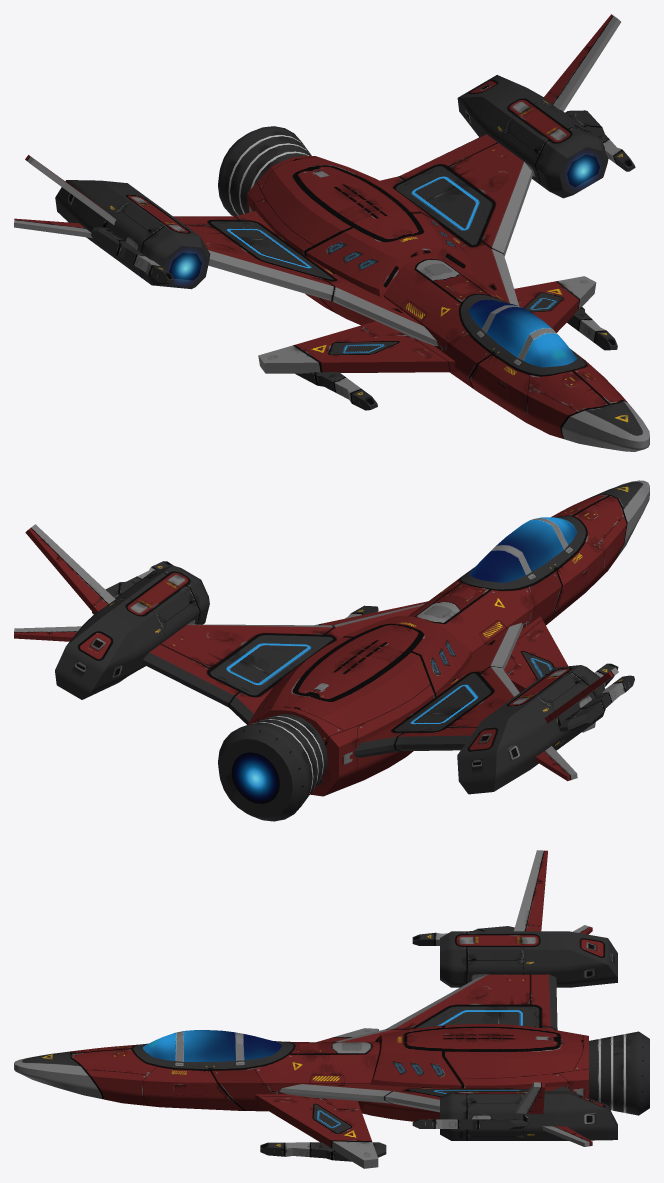
The model's file is spaceship-noAni-posi-draco.glb.
3 views of the same model, one above another, from view 1: azimuth 30°, elevation 25°; view 2: azimuth 150°, elevation 25°; view 3: azimuth 270°, elevation 25° (orthographic). The views are drawn at different scales.
Parts seen in each view (by area): view 1: StarSparrow_Core_New, StarSparrow_Wing.001, StarSparrow_Plasma.003, StarSparrow_Wing.002, StarSparrow_Plasma.002, StarSparrow_Tail.004, StarSparrow_Thruster.006, StarSparrow_Tail.003, StarSparrow_Fin.001, StarSparrow_Weapon.001, StarSparrow_Weapon.008, StarSparrow_Weapon.006 (+3 smaller); view 2: StarSparrow_Core_New, StarSparrow_Wing.001, StarSparrow_Plasma.003, StarSparrow_Plasma.002, StarSparrow_Thruster.006, StarSparrow_Wing.002, StarSparrow_Tail.004, StarSparrow_Fin.001, StarSparrow_Weapon.001, StarSparrow_Fin.002, StarSparrow_Fin.004, StarSparrow_Fin.003 (+1 smaller); view 3: StarSparrow_Core_New, StarSparrow_Plasma.002, StarSparrow_Plasma.003, StarSparrow_Wing.002, StarSparrow_Tail.003, StarSparrow_Thruster.006, StarSparrow_Wing.001, StarSparrow_Fin.003, StarSparrow_Weapon.004, StarSparrow_Weapon.006, StarSparrow_Fin.001, StarSparrow_Weapon.001 (+1 smaller).
Part boxes in pixels (box(x1,y1,x2,y2)): StarSparrow_Core_New: box(247, 155, 649, 451); StarSparrow_Wing.001: box(380, 134, 532, 305); StarSparrow_Plasma.003: box(457, 75, 608, 198); StarSparrow_Wing.002: box(173, 211, 437, 346); StarSparrow_Plasma.002: box(55, 180, 210, 289); StarSparrow_Tail.004: box(258, 321, 457, 373); StarSparrow_Thruster.006: box(218, 126, 311, 216); StarSparrow_Tail.003: box(514, 276, 596, 332); StarSparrow_Fin.001: box(543, 14, 620, 111); StarSparrow_Weapon.001: box(91, 227, 174, 283); StarSparrow_Weapon.008: box(295, 372, 377, 410); StarSparrow_Weapon.006: box(565, 110, 635, 171); StarSparrow_Core_New: box(247, 480, 649, 796); StarSparrow_Wing.001: box(142, 603, 424, 724); StarSparrow_Plasma.003: box(55, 565, 209, 699); StarSparrow_Plasma.002: box(457, 665, 605, 794); StarSparrow_Thruster.006: box(218, 714, 327, 821); StarSparrow_Wing.002: box(354, 623, 523, 757); StarSparrow_Tail.004: box(504, 616, 595, 732); StarSparrow_Fin.001: box(25, 524, 115, 613); StarSparrow_Weapon.001: box(559, 675, 634, 731); StarSparrow_Fin.002: box(14, 626, 81, 641); StarSparrow_Fin.004: box(535, 746, 577, 781); StarSparrow_Fin.003: box(544, 667, 618, 723); StarSparrow_Core_New: box(14, 1024, 588, 1121); StarSparrow_Plasma.002: box(440, 931, 617, 987); StarSparrow_Plasma.003: box(440, 1091, 617, 1140); StarSparrow_Wing.002: box(335, 974, 557, 1041); StarSparrow_Tail.003: box(254, 1094, 378, 1168); StarSparrow_Thruster.006: box(589, 1031, 649, 1115); StarSparrow_Wing.001: box(279, 1084, 571, 1112); StarSparrow_Fin.003: box(514, 850, 547, 931); StarSparrow_Weapon.004: box(260, 1142, 386, 1161); StarSparrow_Weapon.006: box(412, 1119, 527, 1129); StarSparrow_Fin.001: box(516, 1082, 544, 1114); StarSparrow_Weapon.001: box(412, 926, 514, 945).
Size of the model in its own units: 9.43 by 2.73 by 10.78.
1 material, 1 textured.
